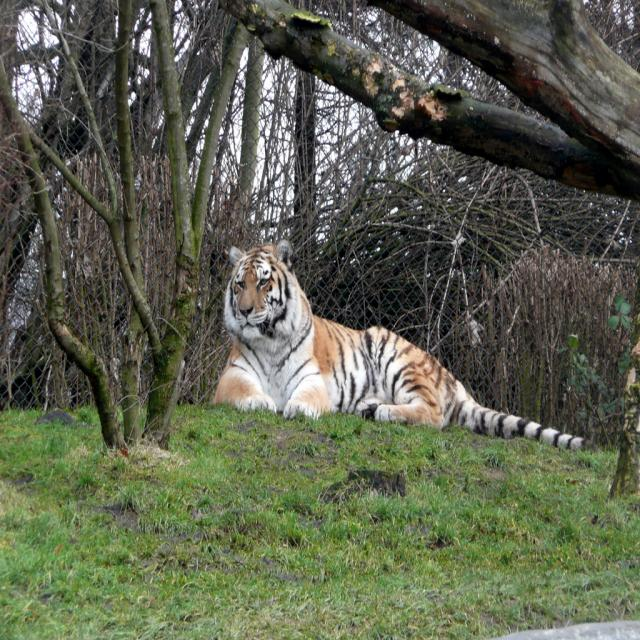Tiger: (213, 238, 603, 454)
